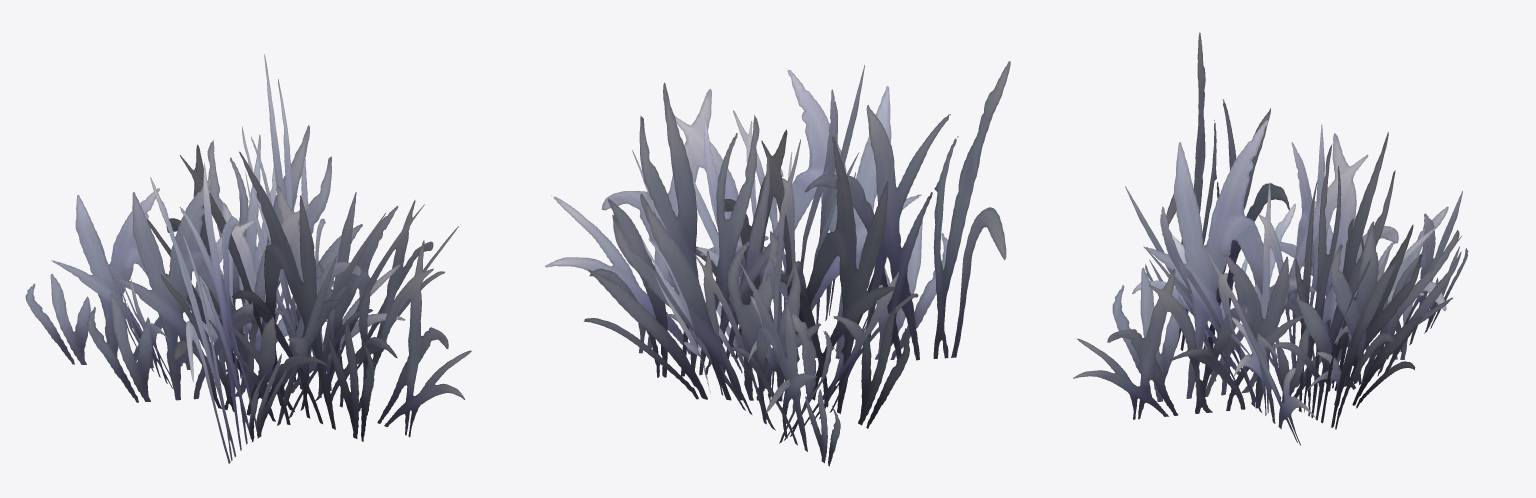
Rendered from Bedayingyz_cao.FBX.
The picture shows the model from 3 angles, left to right: view 1: azimuth 30°, elevation 25°; view 2: azimuth 150°, elevation 25°; view 3: azimuth 270°, elevation 25°; orthographic projection. The views are drawn at different scales.
Parts seen in each view (by area): view 1: Bedayingyz_cao; view 2: Bedayingyz_cao; view 3: Bedayingyz_cao.
Part boxes in pixels (left/top/right/bottom): Bedayingyz_cao: left=25, top=54, right=471, bottom=463; Bedayingyz_cao: left=545, top=61, right=1010, bottom=466; Bedayingyz_cao: left=1073, top=32, right=1468, bottom=445.
Bounding box in the file's own units: 133 × 141 × 101.
1 material, 1 textured.
